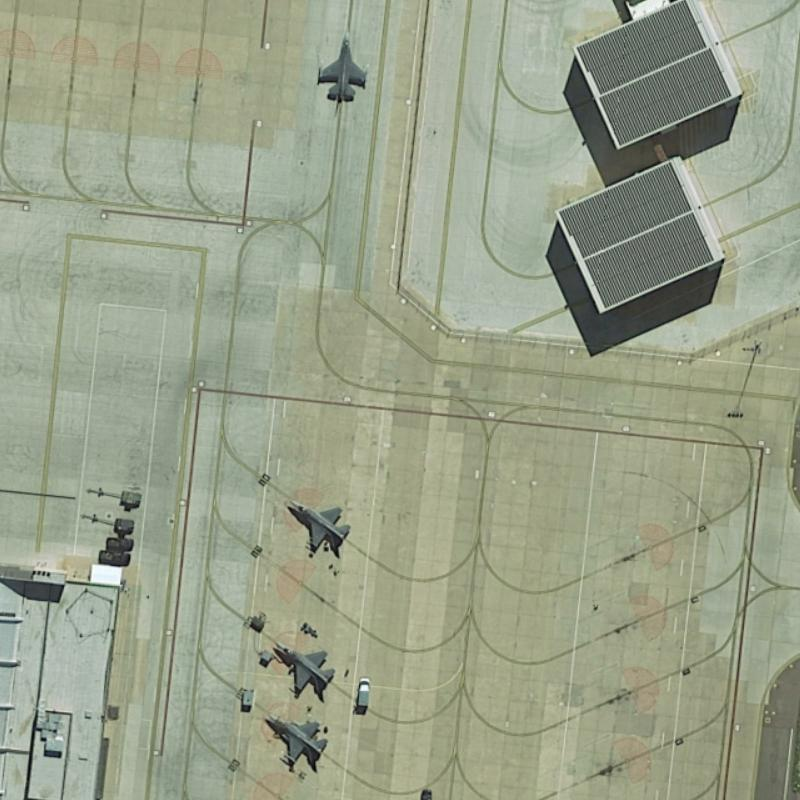A5: (276, 488, 360, 565), (260, 710, 338, 779), (311, 23, 372, 111), (268, 633, 340, 703)
